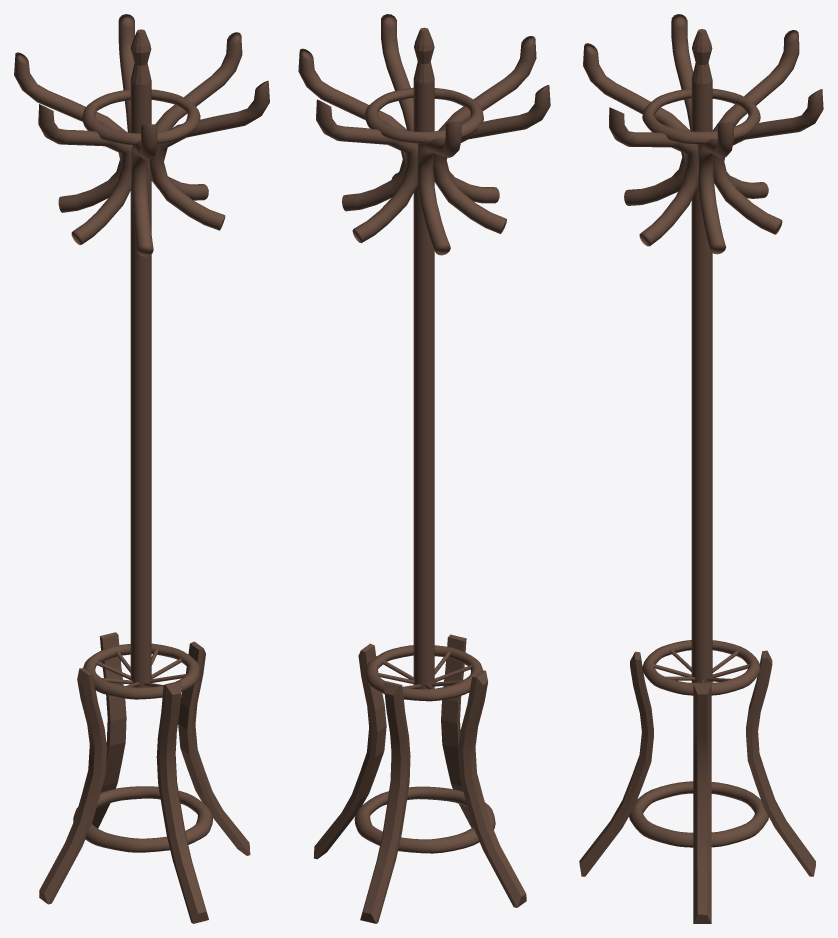
Rendered from porte_manteau.fbx.
3 views of the same model, side by side, from view 1: azimuth 30°, elevation 25°; view 2: azimuth 150°, elevation 25°; view 3: azimuth 270°, elevation 25° (orthographic).
Parts seen in each view (by area): view 1: pCube14; view 2: pCube14; view 3: pCube14.
Part boxes in pixels (x1=…): pCube14: x1=14, y1=14, x2=269, y2=923; pCube14: x1=298, y1=14, x2=550, y2=923; pCube14: x1=579, y1=14, x2=823, y2=923.
Bounding box in the file's own units: 378 × 1356 × 356.
